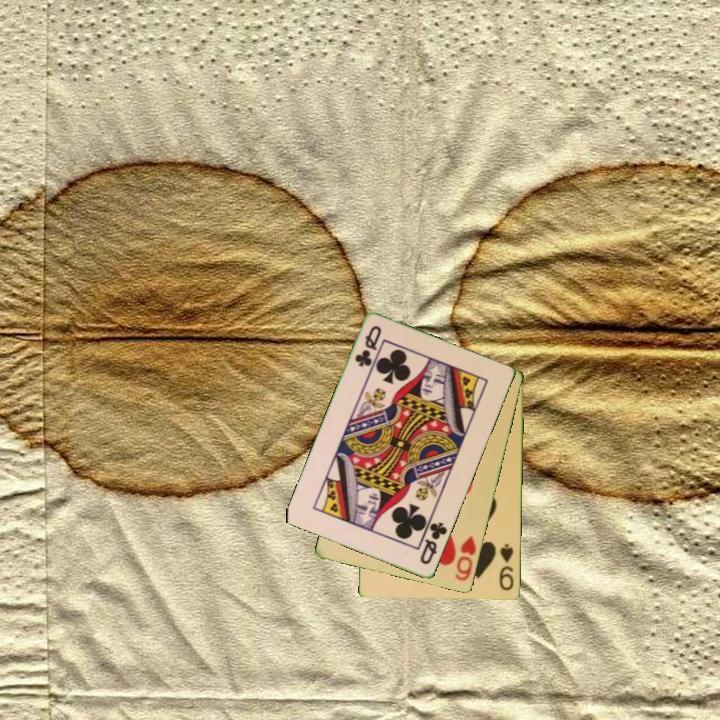6h: (452, 532, 479, 584)
9s: (496, 541, 516, 594)
Qc: (351, 322, 385, 371), (417, 519, 450, 568)
